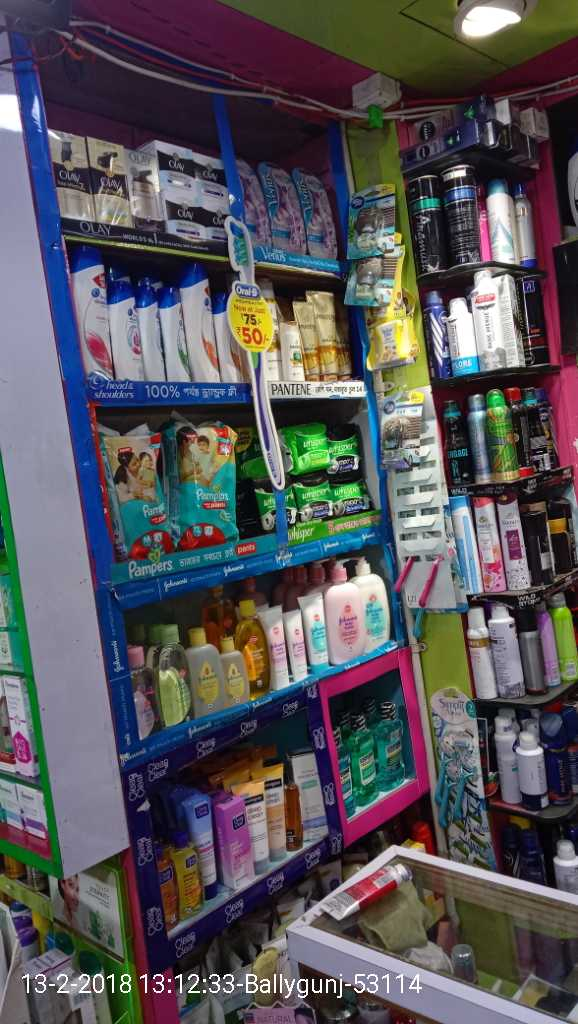venus: (267, 170, 303, 251), (303, 170, 331, 251), (246, 170, 267, 240)
